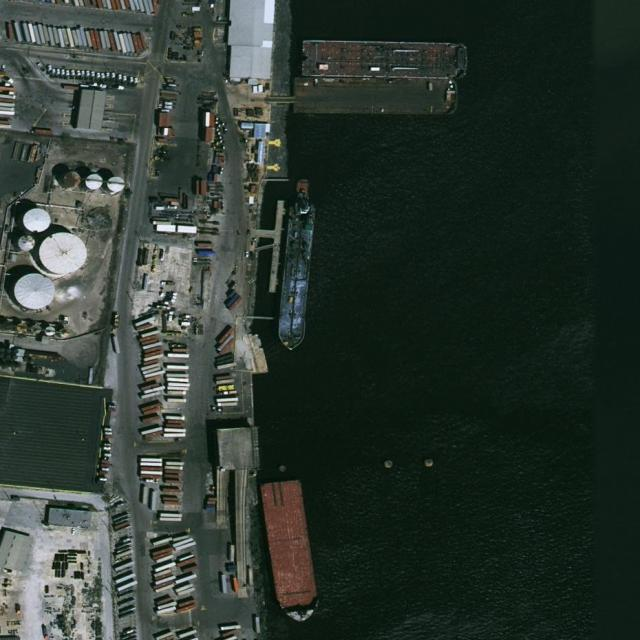Cargo: (275, 175, 320, 352)
Container Ship: (256, 476, 323, 626), (301, 39, 469, 79)
Dock: (292, 78, 458, 114), (265, 202, 287, 293)
